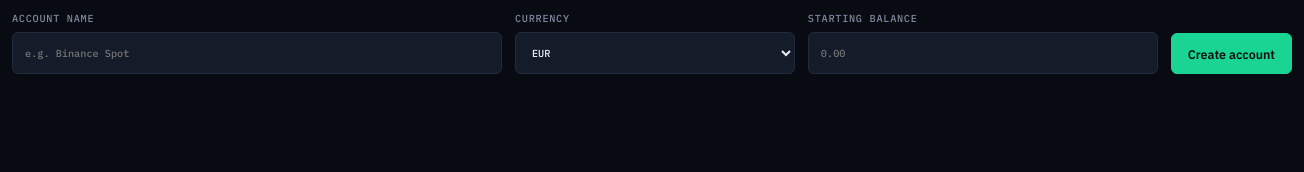
Test: dashboard forms › normalizes account input before creating an account
The width and height of the screenshot is (1304, 172).
Type "  Long Term  " into the field labelled "Account name" at (257, 53), box [12,32,502,74]
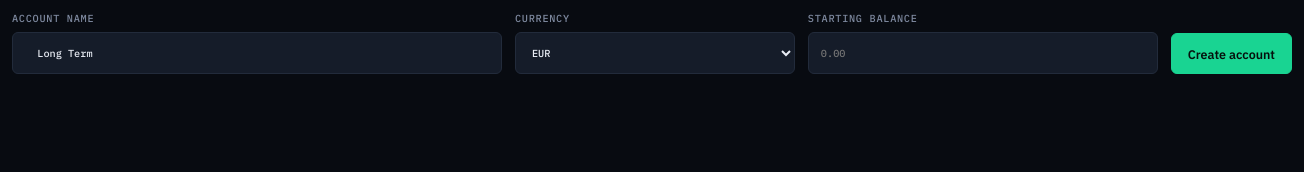
Select "CHF" in the dropdown labelled "Currency" at (655, 53), box [515,32,795,74]
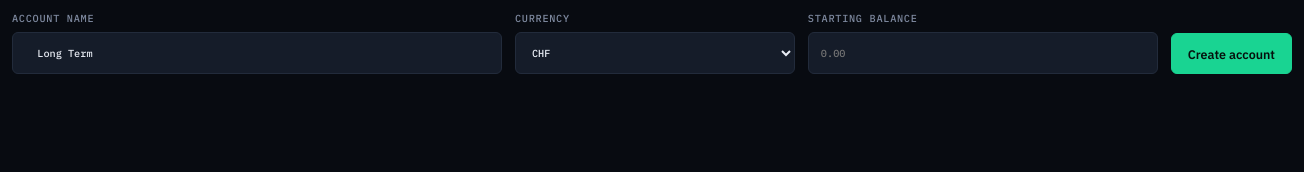
Type "2500.75" into the number field labelled "Starting balance" at (983, 53), box [808,32,1158,74]
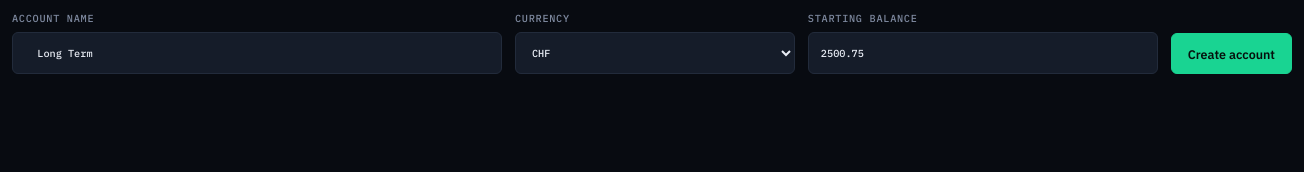
Click the button "Create account" at (1231, 54), box [1171,33,1292,74]
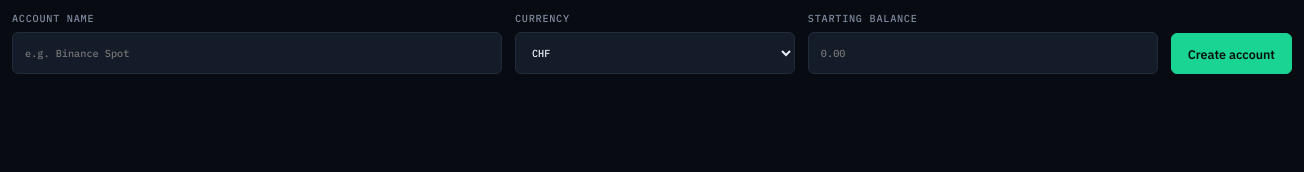
Result: the field labelled "Account name" is empty at [12,32,502,74]
Result: the number field labelled "Starting balance" is not empty at [808,32,1158,74]
